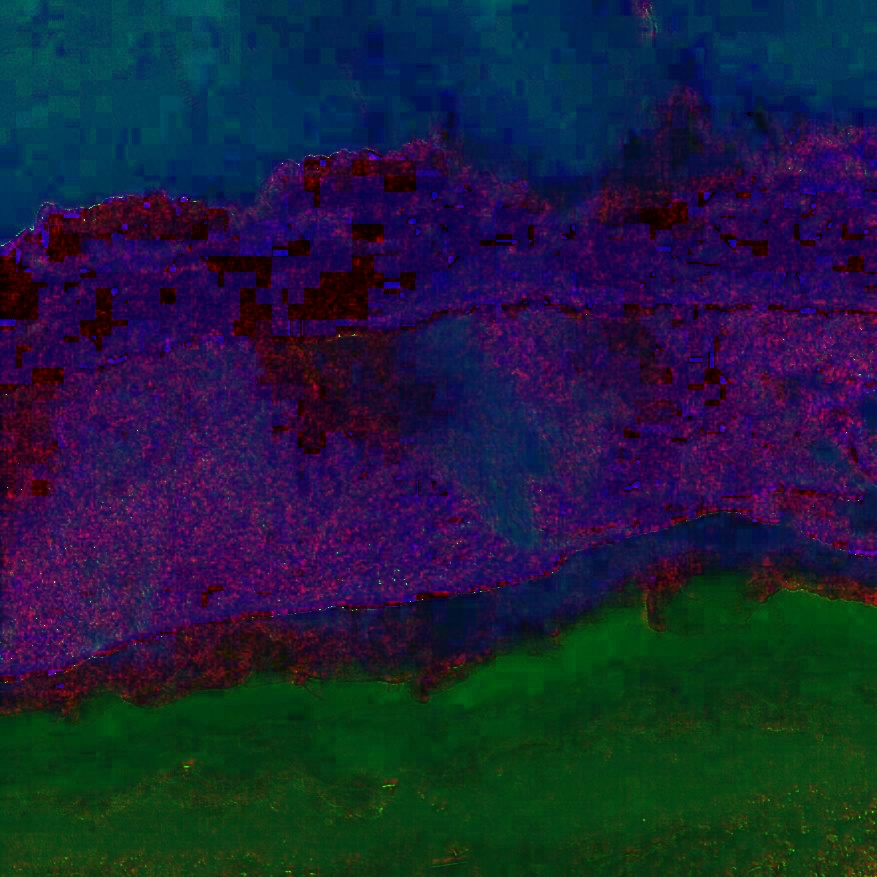rip_current: (346, 102, 636, 615)
